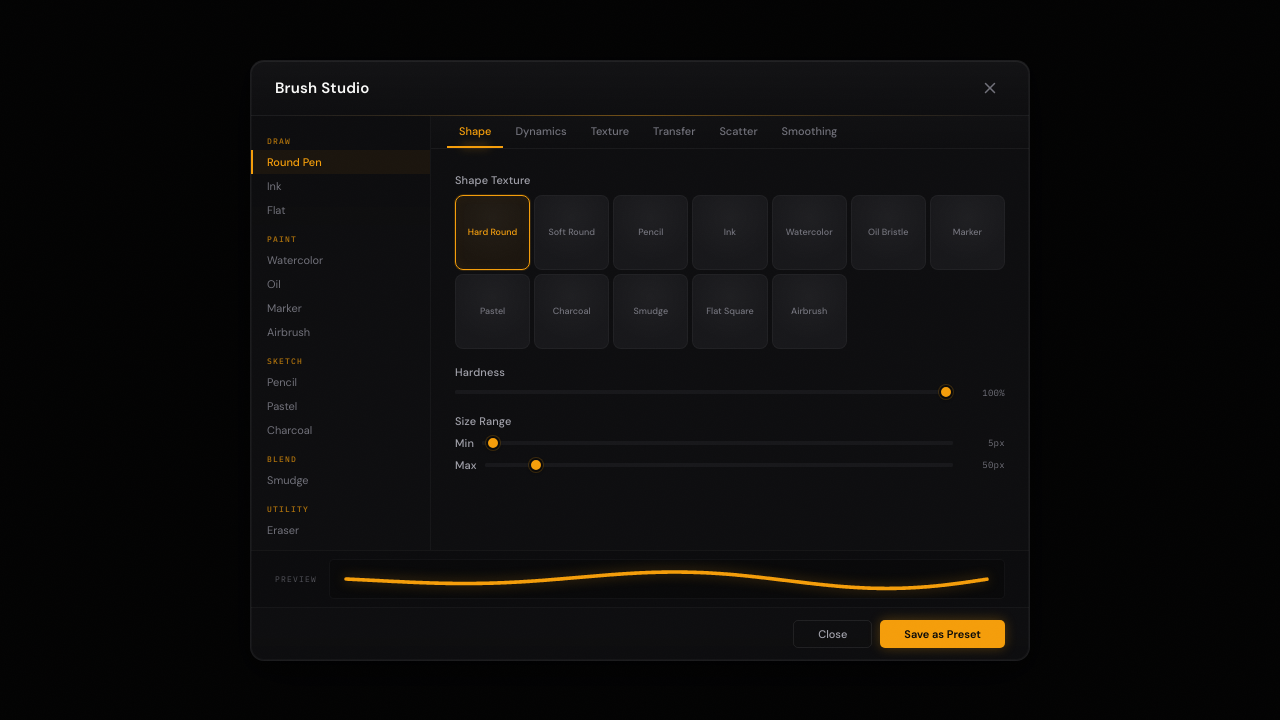
BrushStudio › switches tabs on click
Click the button "Scatter": (738, 132) left=707, top=116, right=770, bottom=148
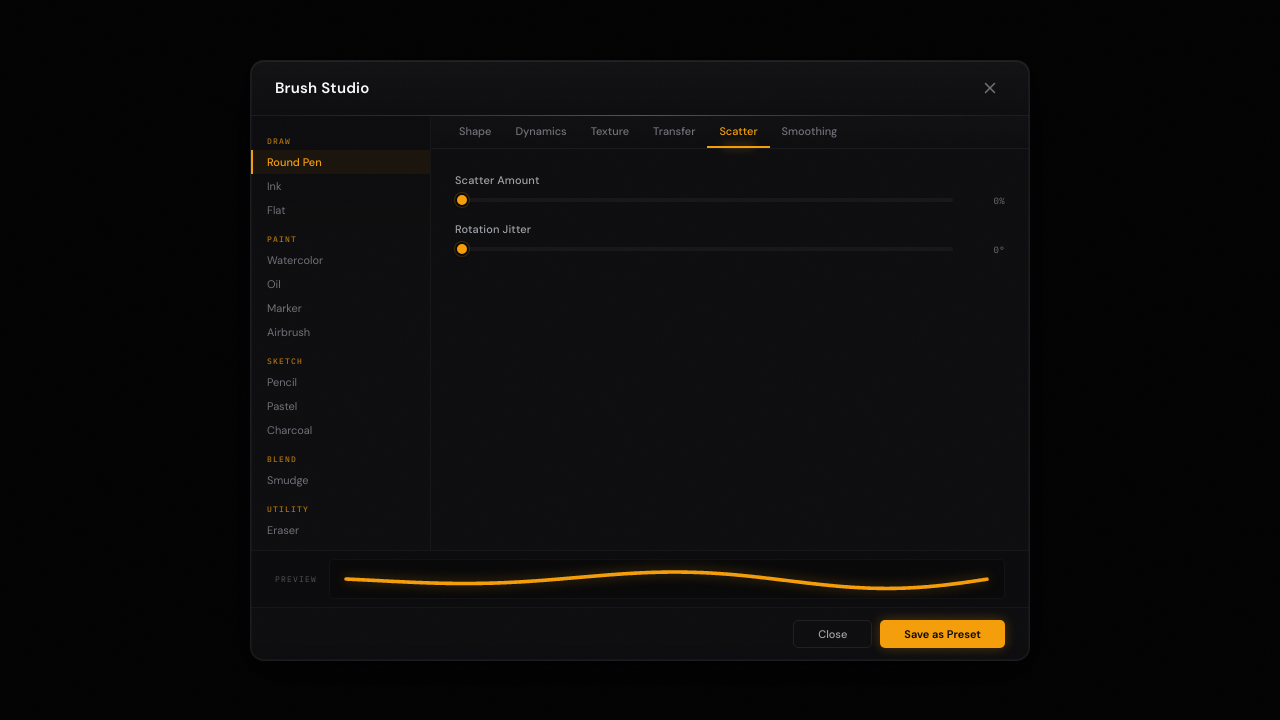
Result: the text "Scatter Amount" is shown at left=455, top=172, right=540, bottom=186
